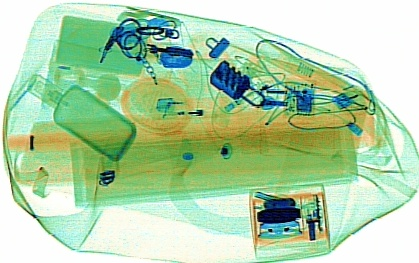lighter: (155, 96, 229, 119)
